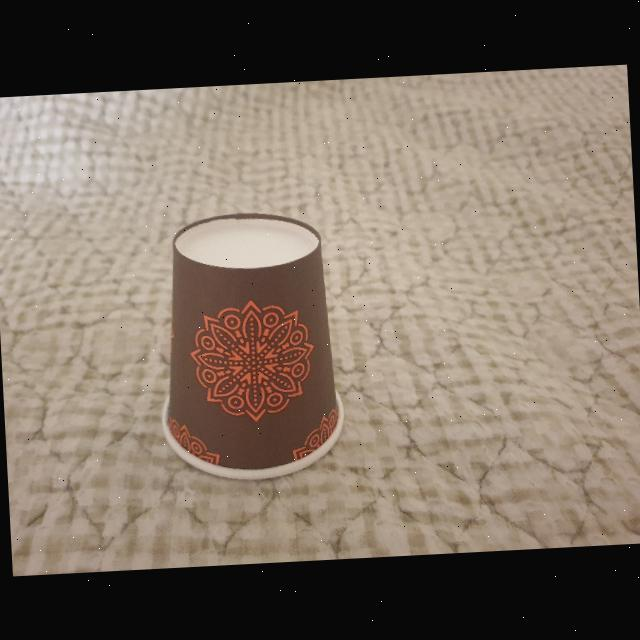trash: (142, 199, 360, 492)
